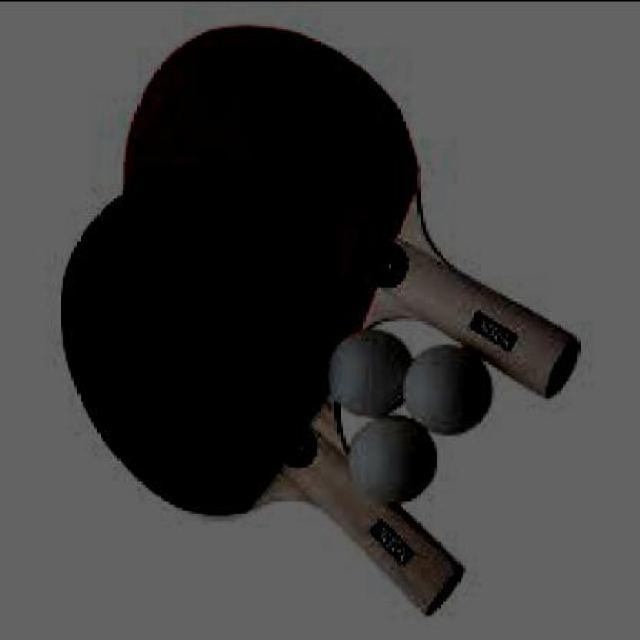table_tennis_racket: (51, 176, 340, 515), (117, 8, 418, 330)
